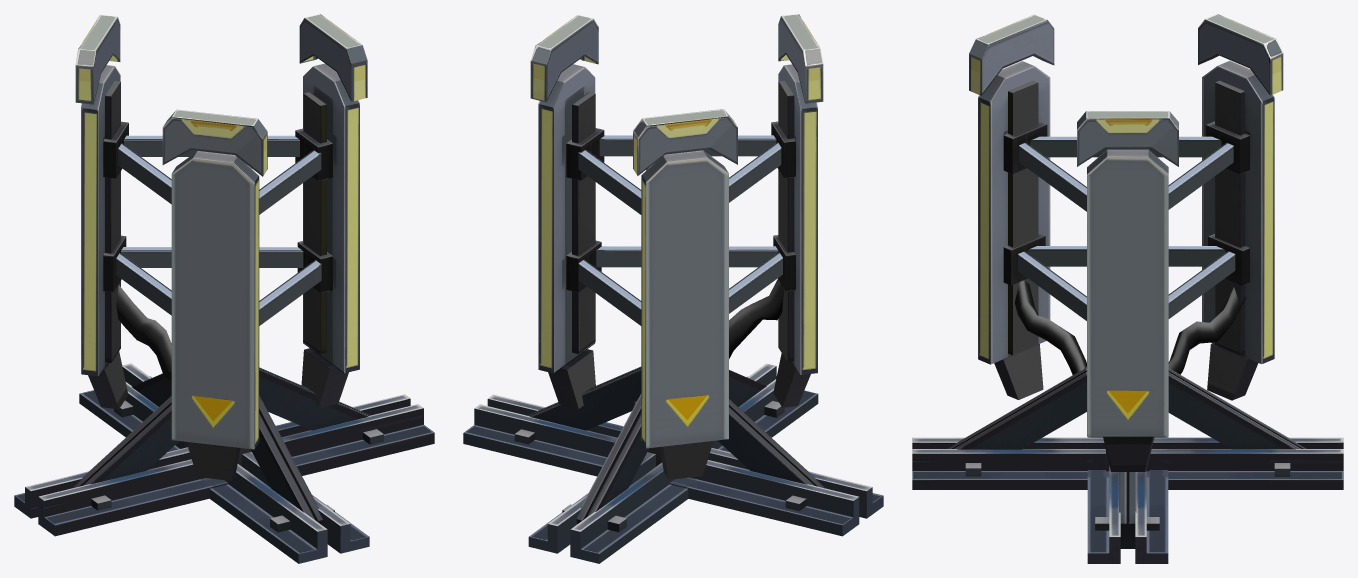
Rendered from trap_270_spawnp.fbx.
3 renders of one model, left to right at view 1: azimuth 30°, elevation 25°; view 2: azimuth 150°, elevation 25°; view 3: azimuth 270°, elevation 25°, orthographic.
Visible parts, largest first — view 1: trap_270_spawnp; view 2: trap_270_spawnp; view 3: trap_270_spawnp.
Part boxes in pixels (x1,y1,x2,y2): trap_270_spawnp: [14, 14, 434, 563]; trap_270_spawnp: [463, 14, 883, 563]; trap_270_spawnp: [912, 14, 1343, 563].
Bounding box in the file's own units: 0.8712 × 0.9358 × 0.8712.
1 material, 1 textured.
